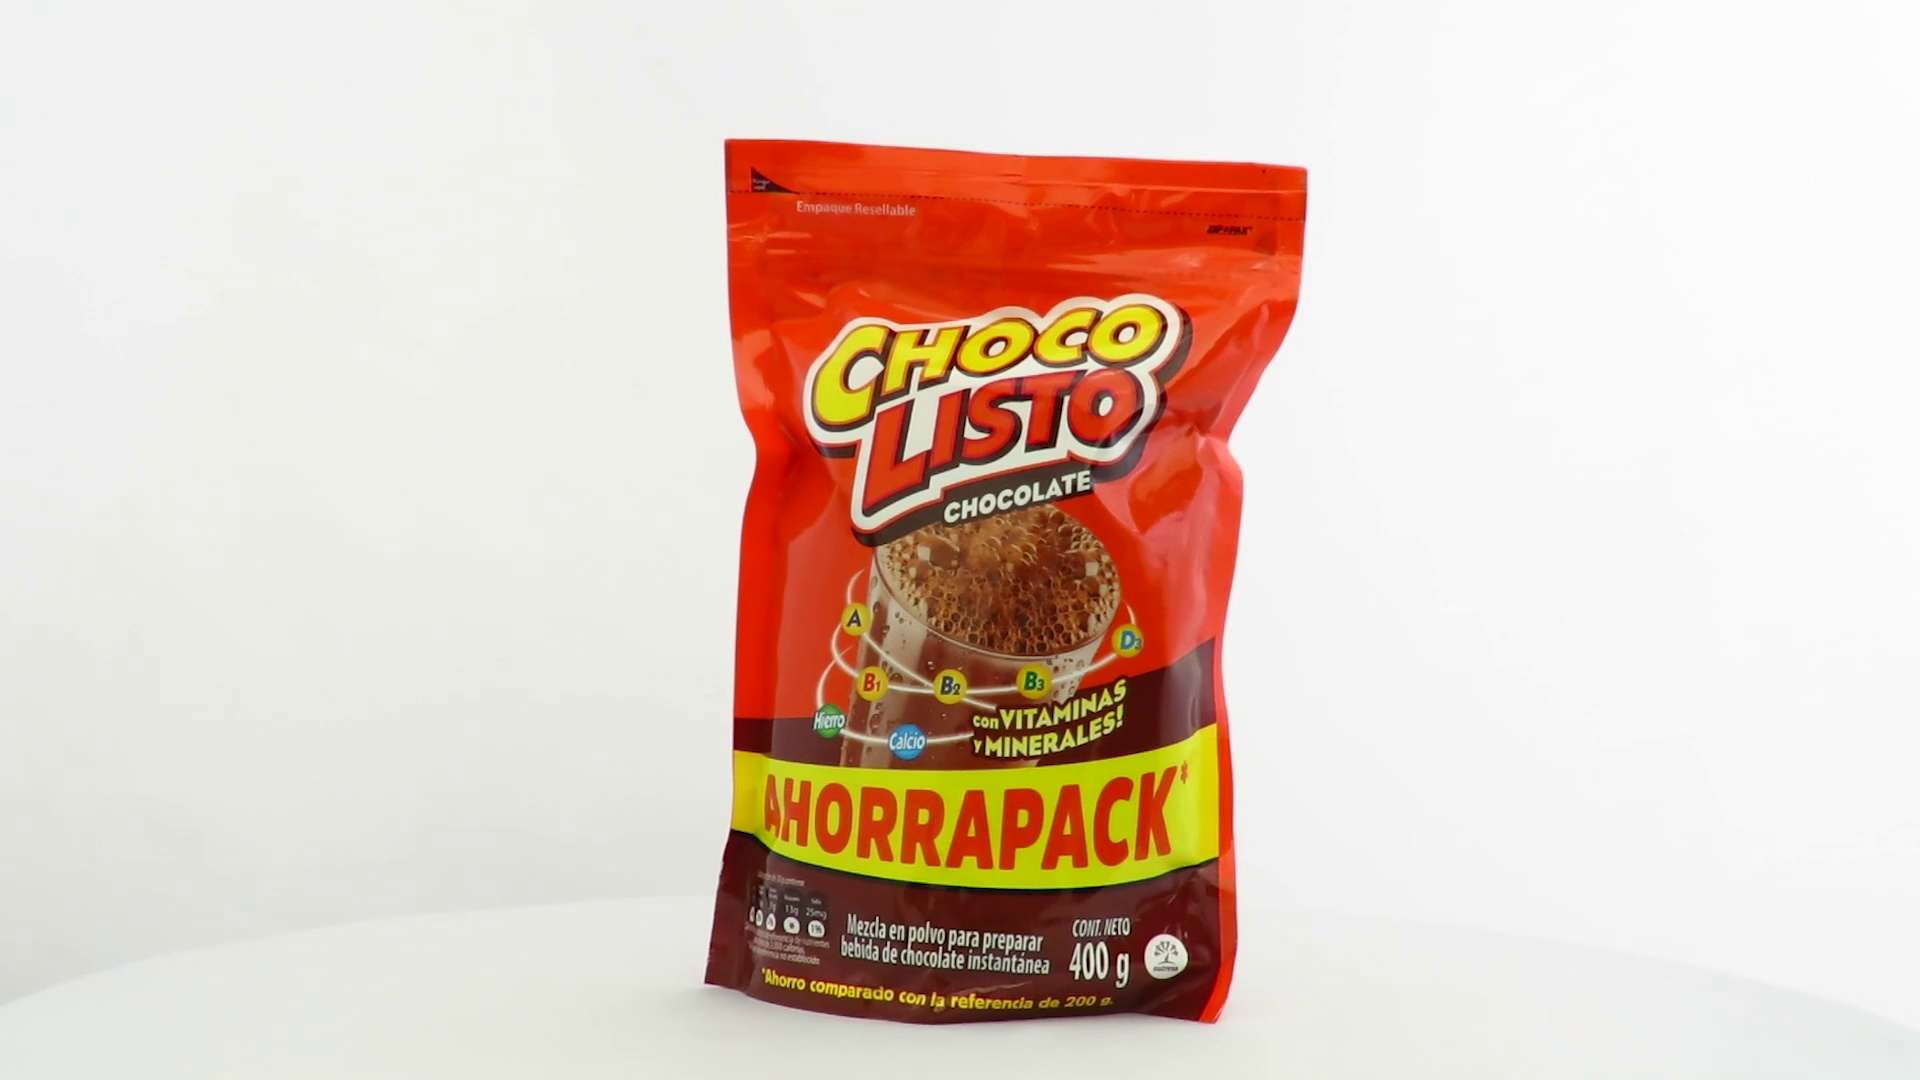COL0170103DYP40000: (699, 133, 1313, 1033)
